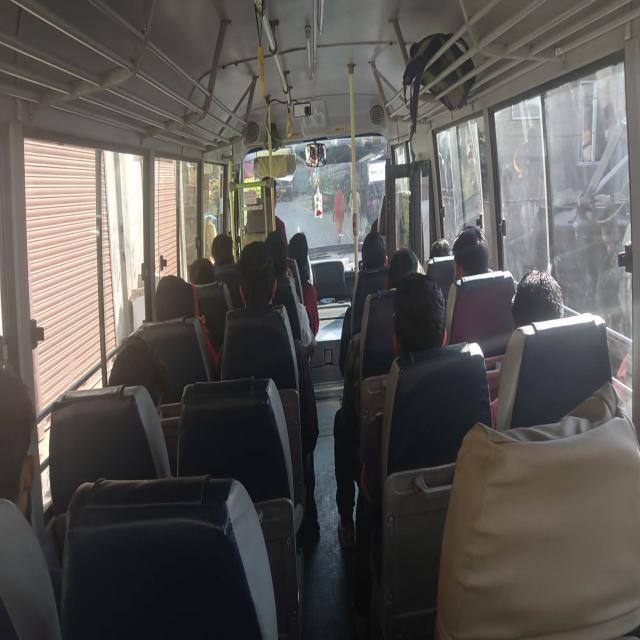person: (0, 394, 56, 515), (115, 328, 174, 418), (151, 278, 198, 350), (398, 277, 442, 352), (508, 266, 566, 317), (240, 250, 280, 308), (452, 226, 486, 285), (387, 242, 423, 295), (262, 228, 298, 270), (356, 230, 384, 268), (211, 233, 239, 267), (289, 228, 311, 266), (428, 233, 453, 264), (193, 257, 217, 288)
